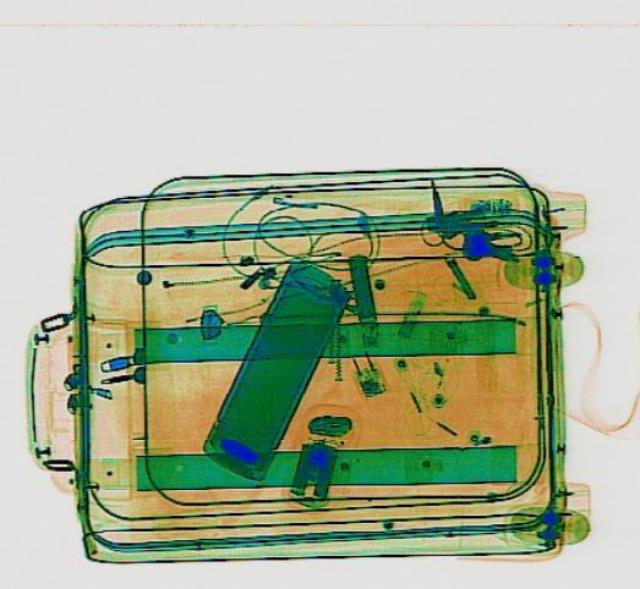Scissors: (408, 175, 468, 250)
